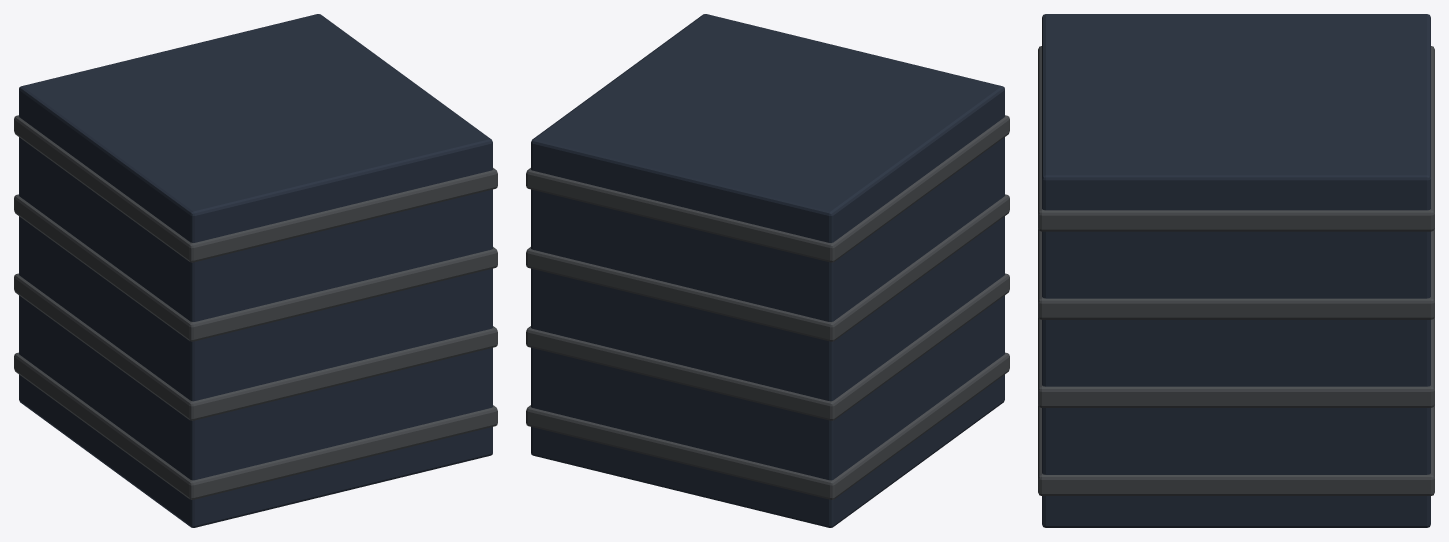
The model's file is crate.glb.
3 renders of one model, left to right at view 1: azimuth 30°, elevation 25°; view 2: azimuth 150°, elevation 25°; view 3: azimuth 270°, elevation 25°, orthographic. The views are drawn at different scales.
Visible parts, largest first — view 1: crate; view 2: crate; view 3: crate.
Part boxes in pixels (x1,y1,x2,y2): crate: (14, 14, 497, 527); crate: (526, 14, 1009, 527); crate: (1038, 14, 1434, 527).
Bounding box in the file's own units: 0.816 × 0.8 × 0.816.
